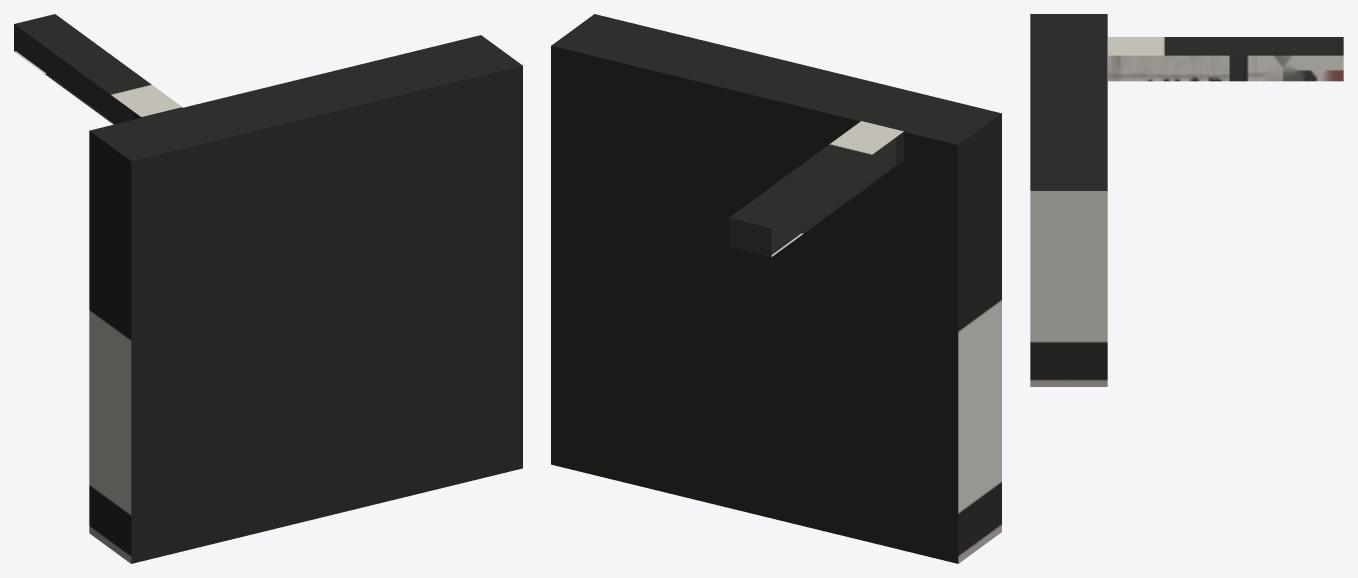
The model's file is section-0.obj.
The picture shows the model from 3 angles, left to right: view 1: azimuth 30°, elevation 25°; view 2: azimuth 150°, elevation 25°; view 3: azimuth 270°, elevation 25°; orthographic projection. The views are drawn at different scales.
Size of the model in its own units: 0.9197 by 0.9052 by 0.6881.
